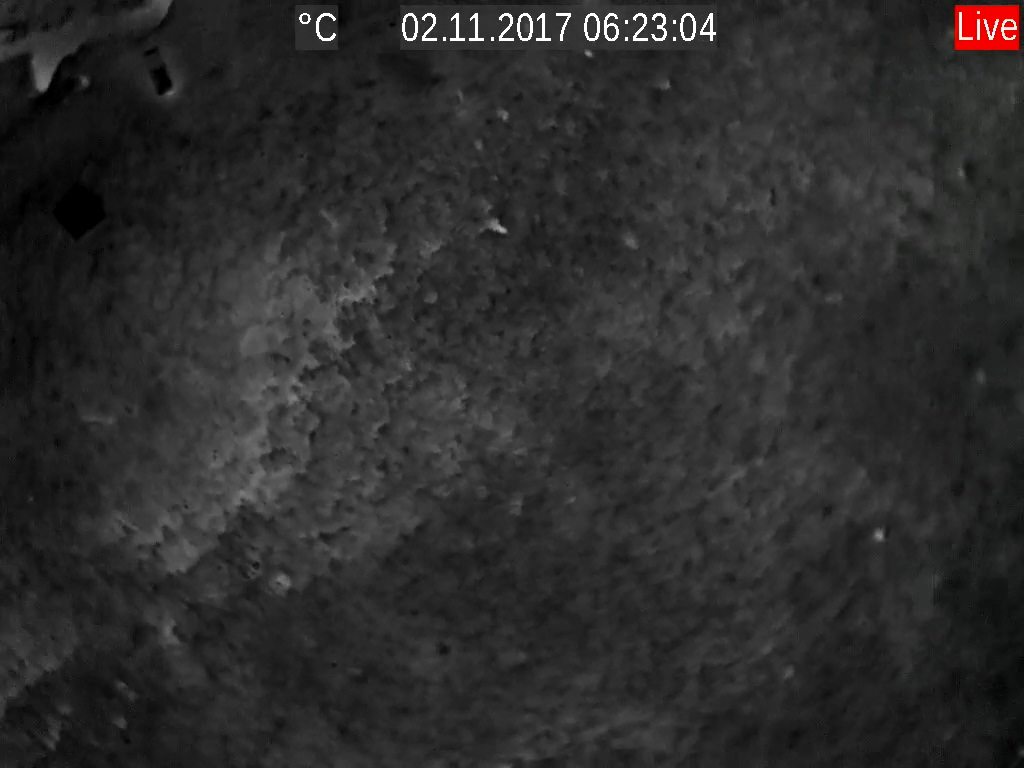warren: (24, 40, 64, 95), (481, 213, 509, 238)
